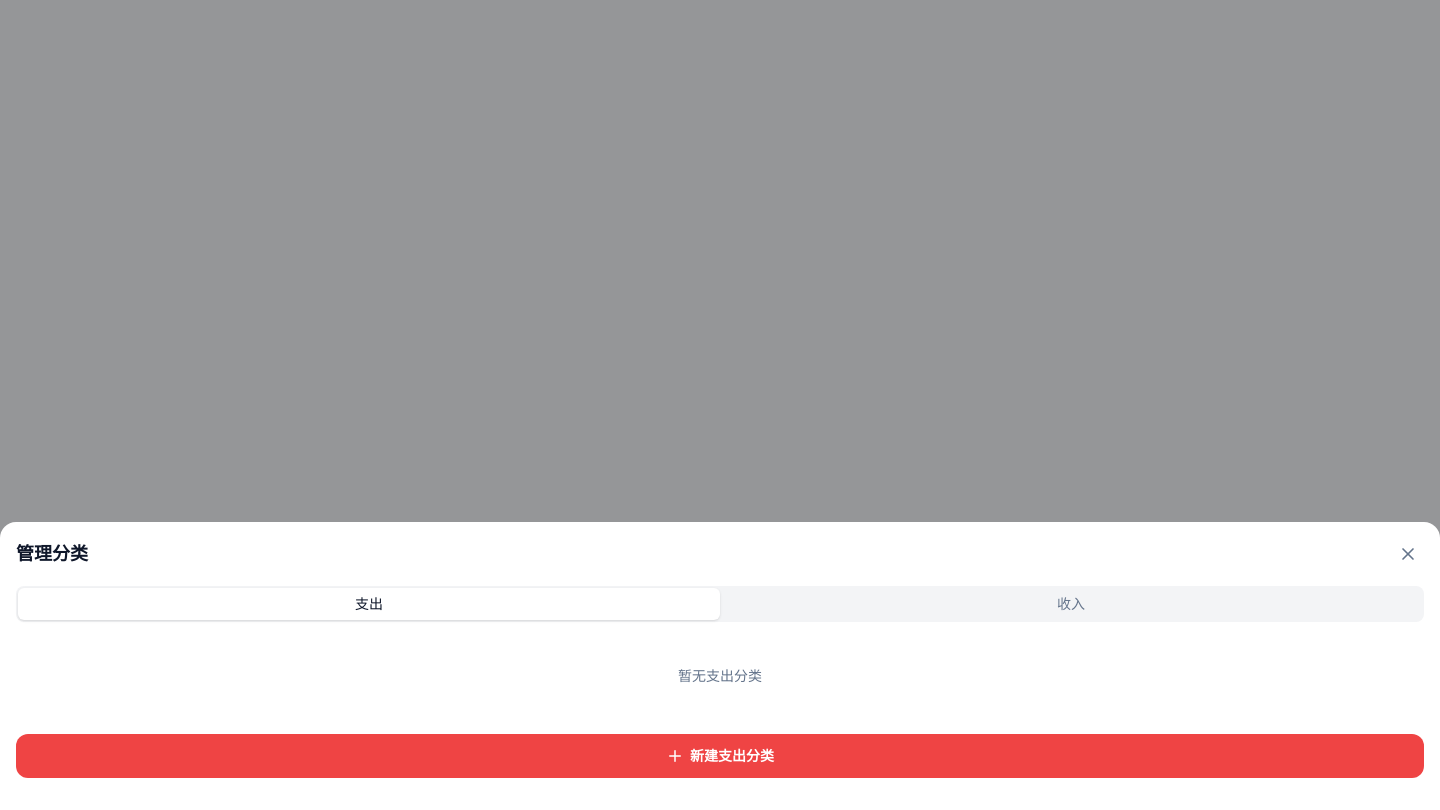
Test: CategorySheet › 名称命中关键词时标记匹配分组
Click the 4th button at {"x": 720, "y": 756}, box [16,734,1424,778]
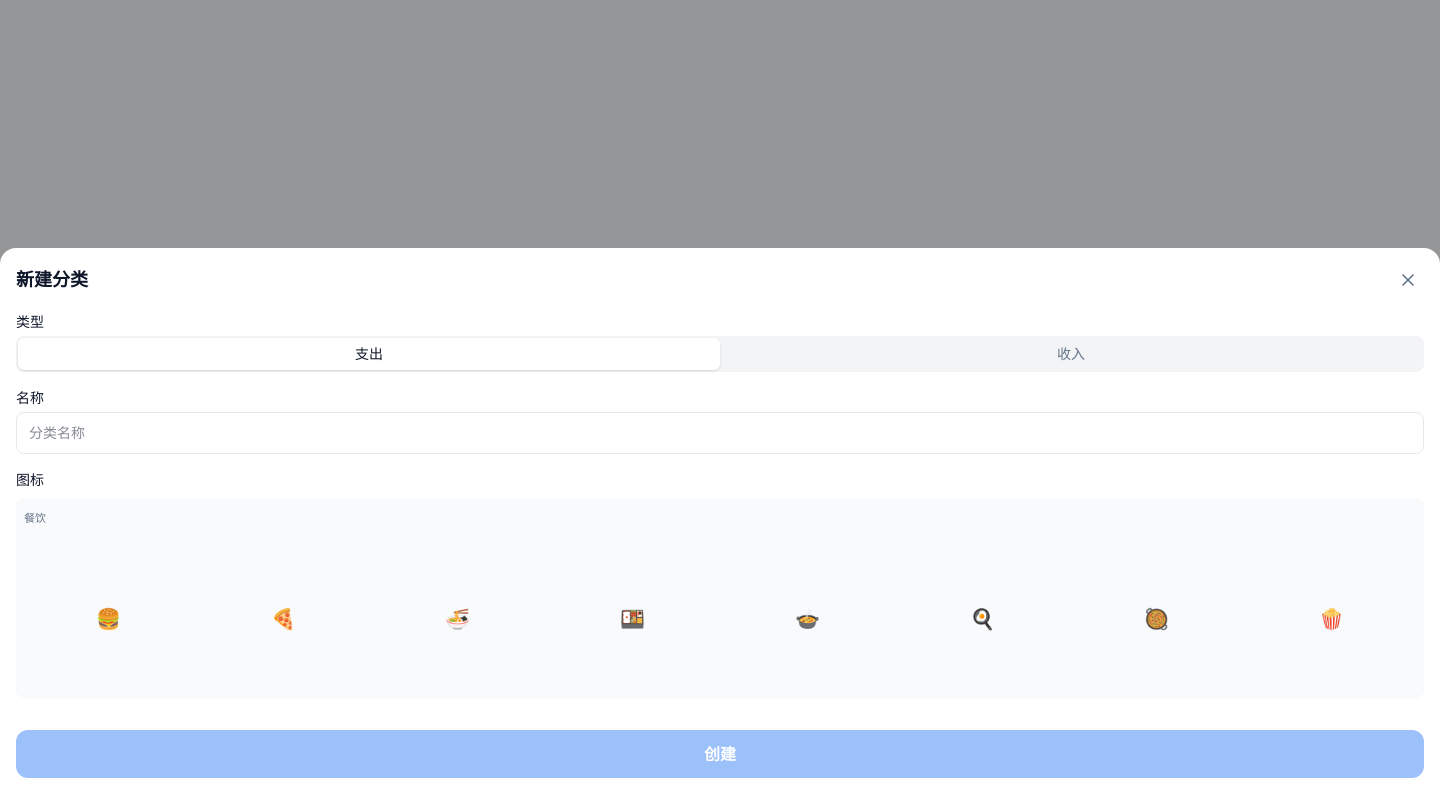
Type "工资" into the field with placeholder "分类名称" at {"x": 720, "y": 433}, box [16,412,1424,454]
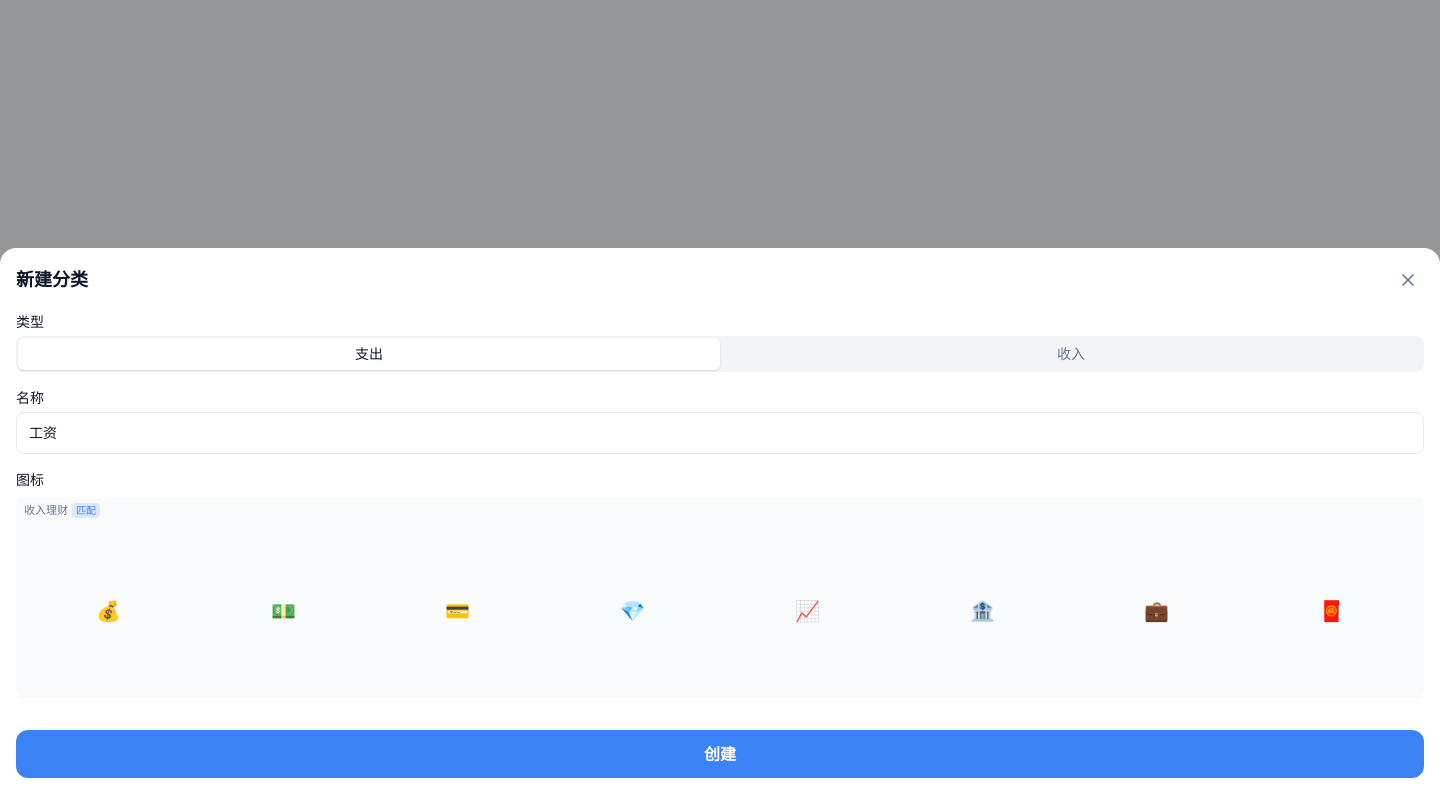
Expected: the text "匹配" is shown, [72,503,100,518]
